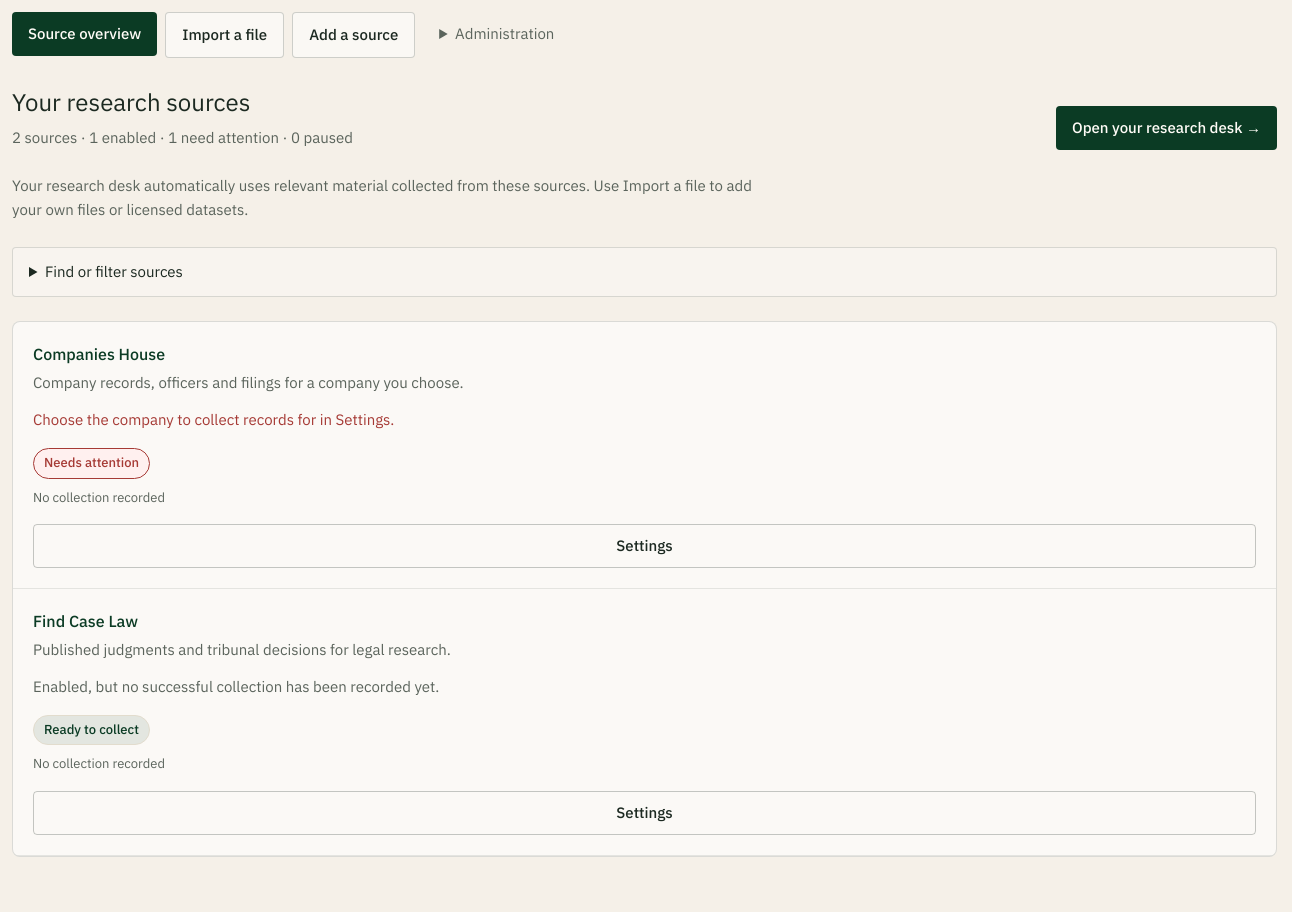
Test: shows only one chosen task and loads licences when adding a source
The image size is (1292, 912).
Click the button "Import a file": coordinates (225, 35) [165,12,284,58]
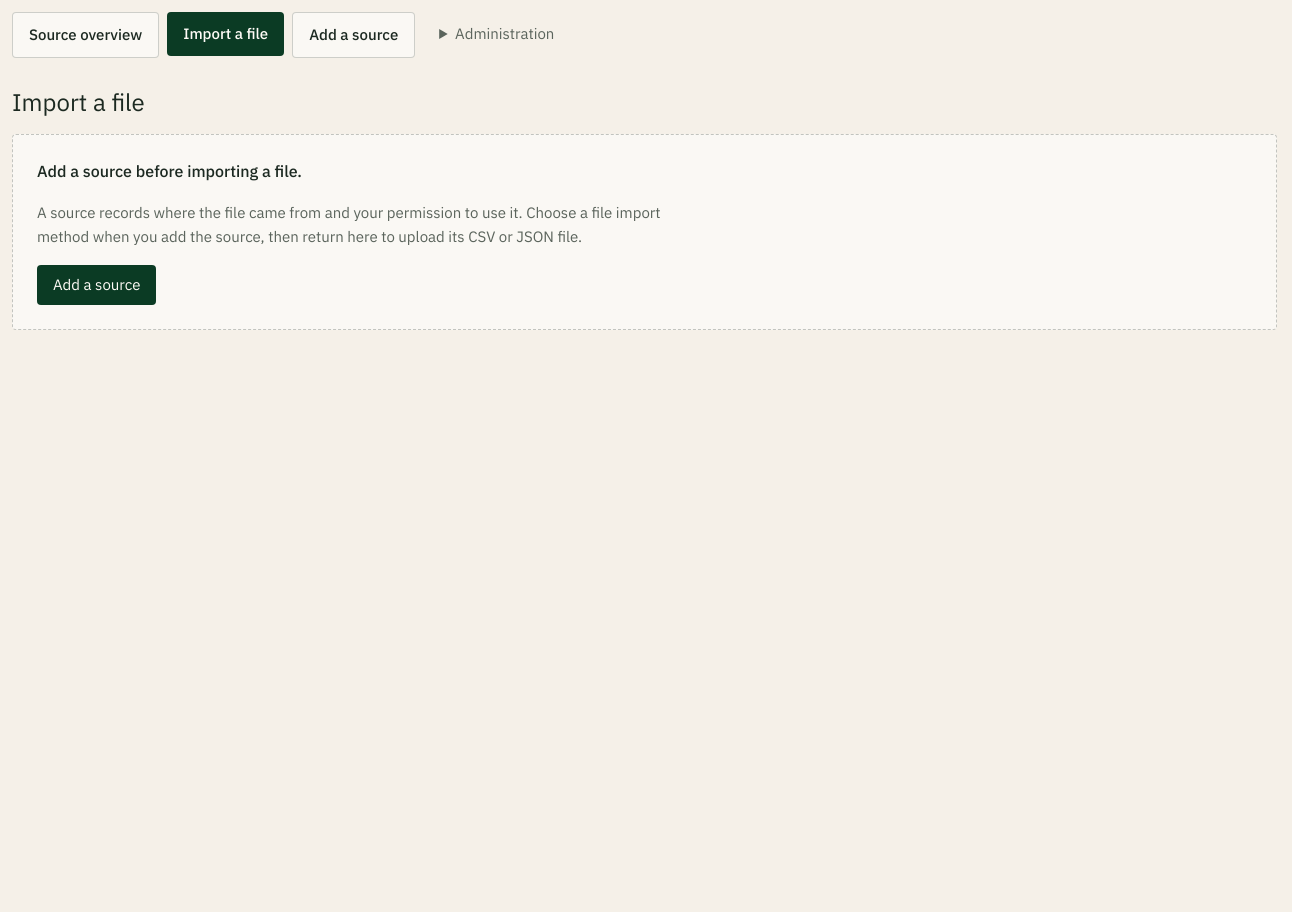
expect the heading "Import a file" is shown: met, box [12,86,145,118]
expect the heading "Your research sources" is gone: met
Click the button "Add a source" next to "Administration": coordinates (354, 35) [292,12,415,58]
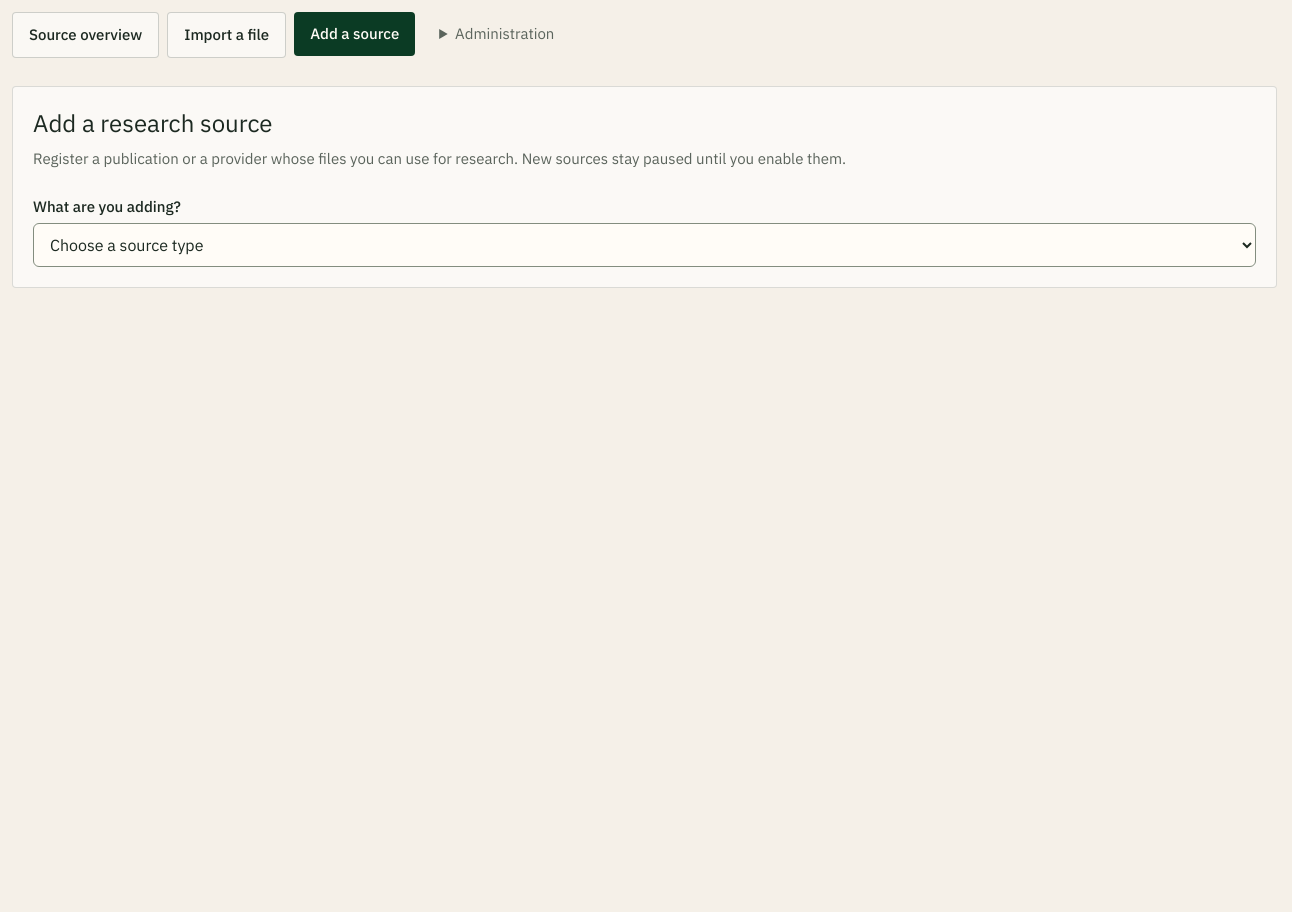
expect the dropdown labelled "What are you adding?" is shown: met, box [33,223,1256,267]
